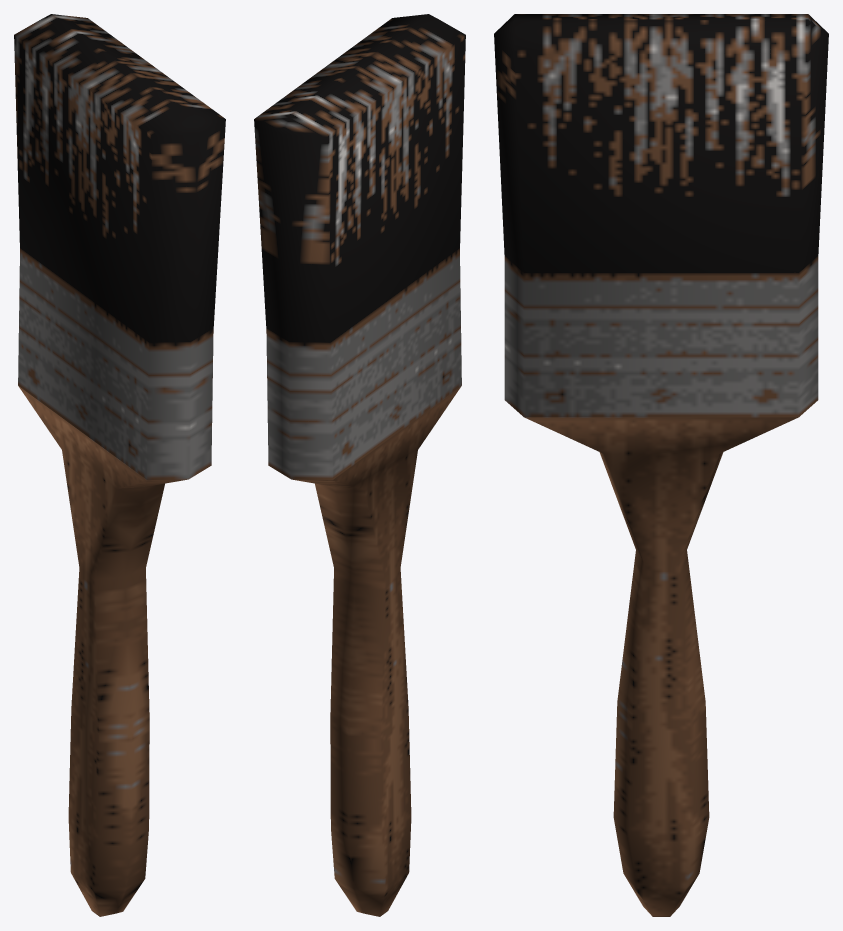
File: PaintBrush_Hand.fbx
3 renders of one model, left to right at view 1: azimuth 30°, elevation 25°; view 2: azimuth 150°, elevation 25°; view 3: azimuth 270°, elevation 25°, orthographic. The views are drawn at different scales.
Parts seen in each view (by area): view 1: PaintBrush; view 2: PaintBrush; view 3: PaintBrush.
Boxes of the visible parts, x1=… form: PaintBrush: x1=14, y1=14, x2=225, y2=916; PaintBrush: x1=254, y1=14, x2=465, y2=916; PaintBrush: x1=494, y1=14, x2=828, y2=916.
Size of the model in its own units: 0.0198 by 0.2149 by 0.0728.
